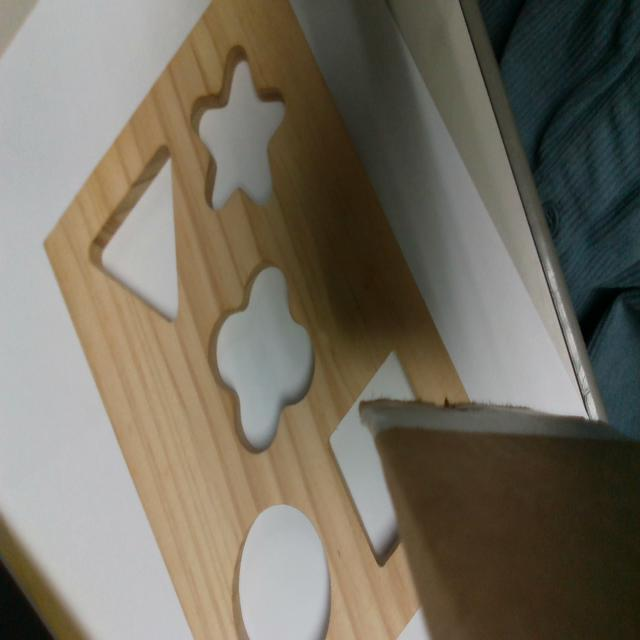circle: (237, 506, 333, 637)
flower: (210, 262, 313, 449)
square: (325, 349, 424, 567)
star: (189, 43, 284, 207)
triangle: (87, 141, 181, 322)
